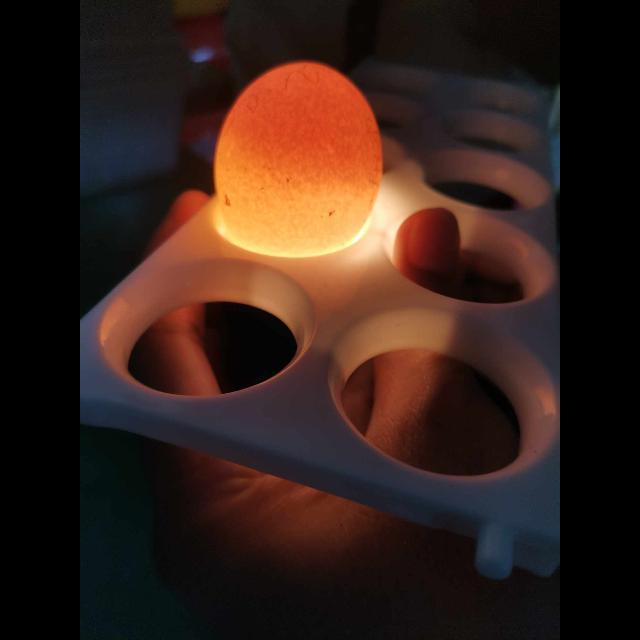Infertile: (216, 57, 374, 253)
